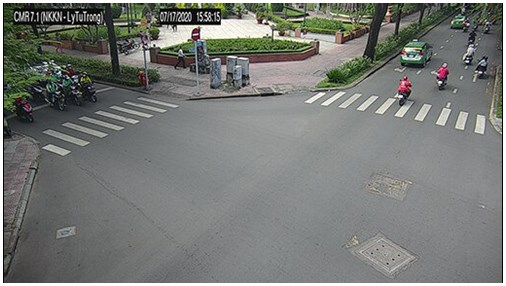xe_hoi: (401, 38, 435, 66), (27, 57, 61, 75), (450, 14, 467, 29)
xe_may: (46, 78, 65, 110), (63, 75, 82, 106), (395, 74, 413, 106), (79, 73, 98, 103), (15, 96, 34, 122), (116, 35, 141, 54), (435, 62, 451, 90), (27, 78, 43, 101), (475, 55, 489, 78), (66, 64, 79, 85), (463, 42, 474, 64), (467, 29, 476, 45), (473, 18, 481, 32), (482, 21, 491, 33), (463, 18, 470, 32)
